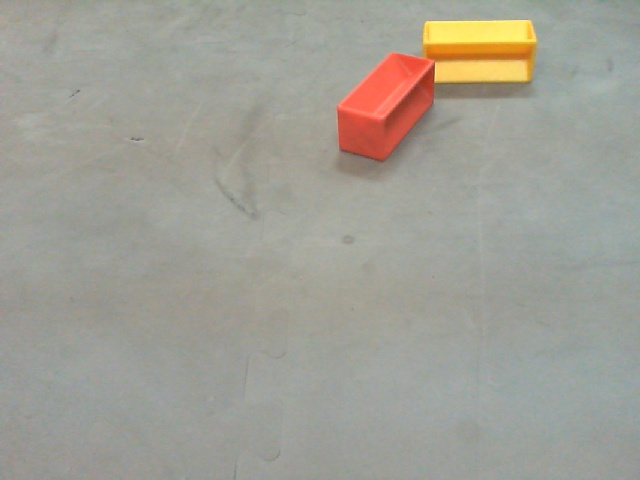RedSample: (336, 52, 435, 163)
YellowSample: (421, 19, 539, 85)
